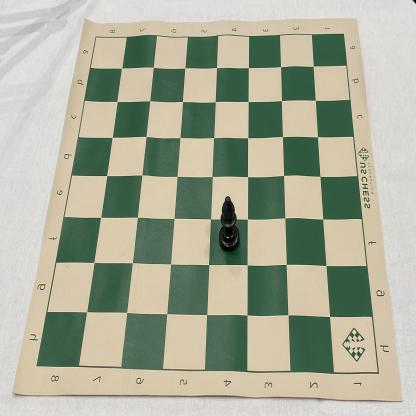black-bishop: (218, 195, 240, 253)
